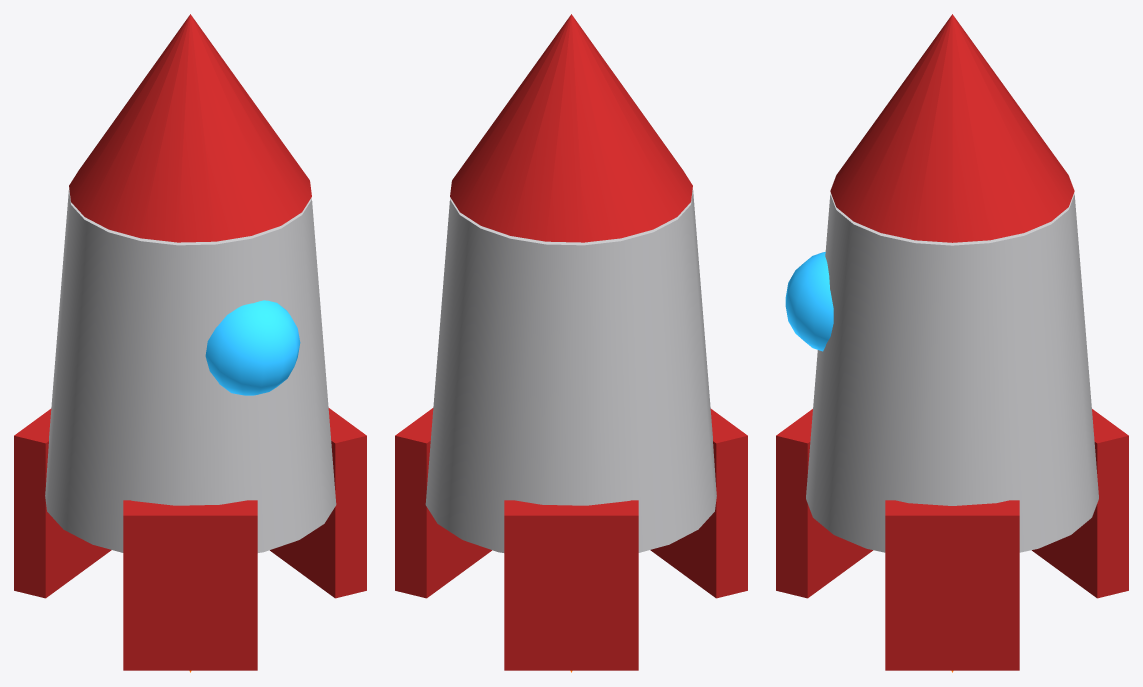
The model's file is rocket.glb.
The picture shows the model from 3 angles, left to right: view 1: azimuth 30°, elevation 25°; view 2: azimuth 150°, elevation 25°; view 3: azimuth 270°, elevation 25°; orthographic projection.
Bounding box in the file's own units: 0.51 × 1.19 × 0.5777.
